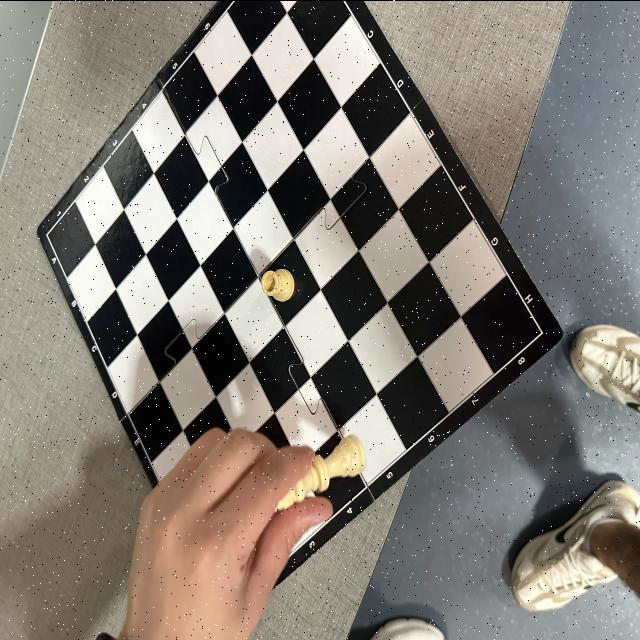White-King: (274, 434, 366, 512)
White-Rook: (260, 267, 294, 301)
